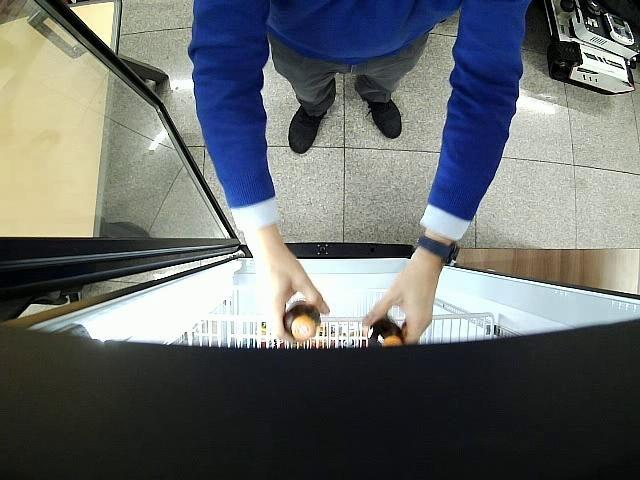17_vita500: (283, 300, 321, 340), (369, 318, 405, 347)
